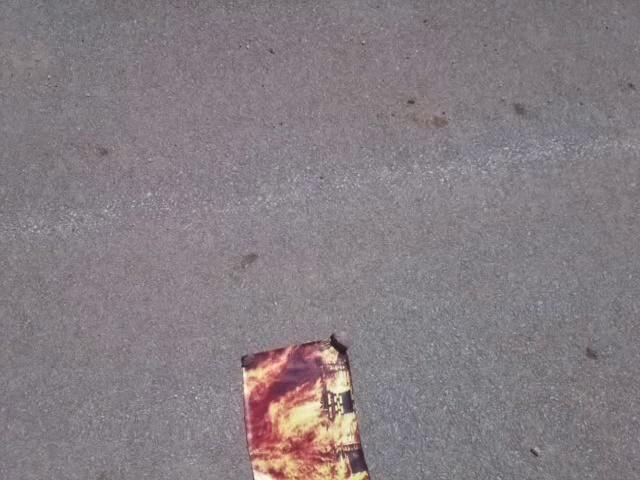fire-poster: (238, 333, 375, 479)
